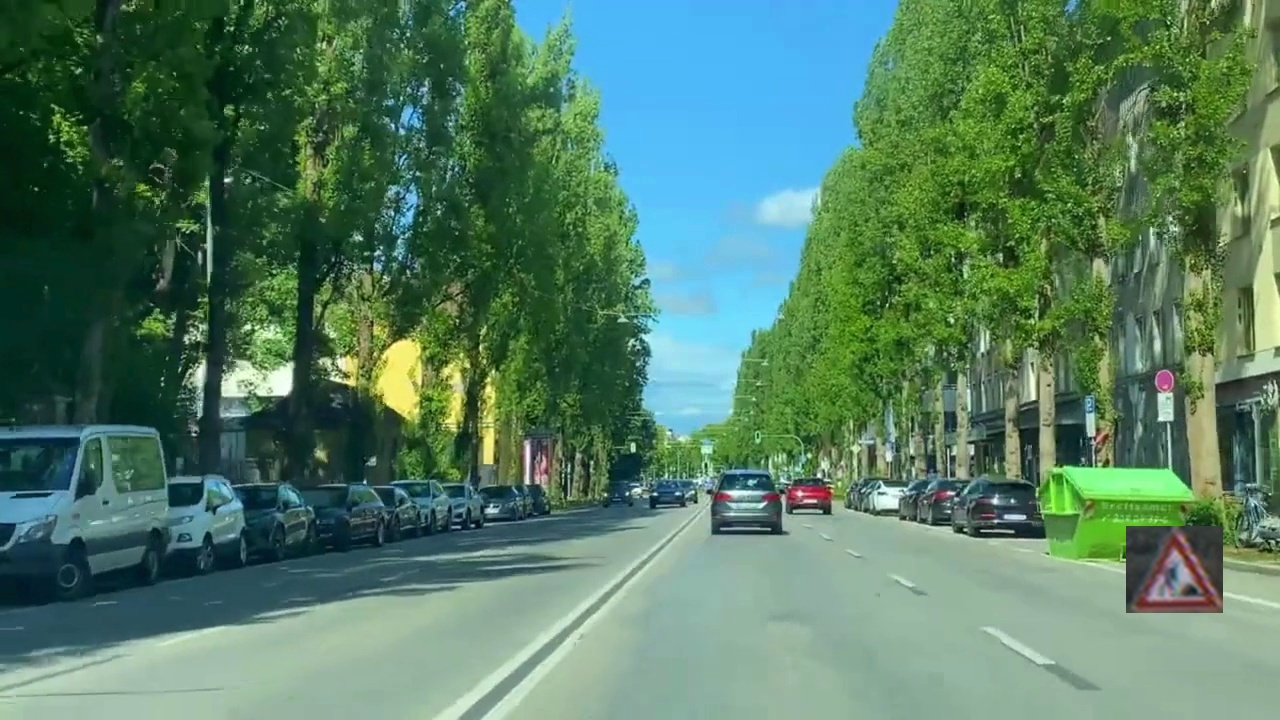Road work: (1126, 526, 1223, 613)
